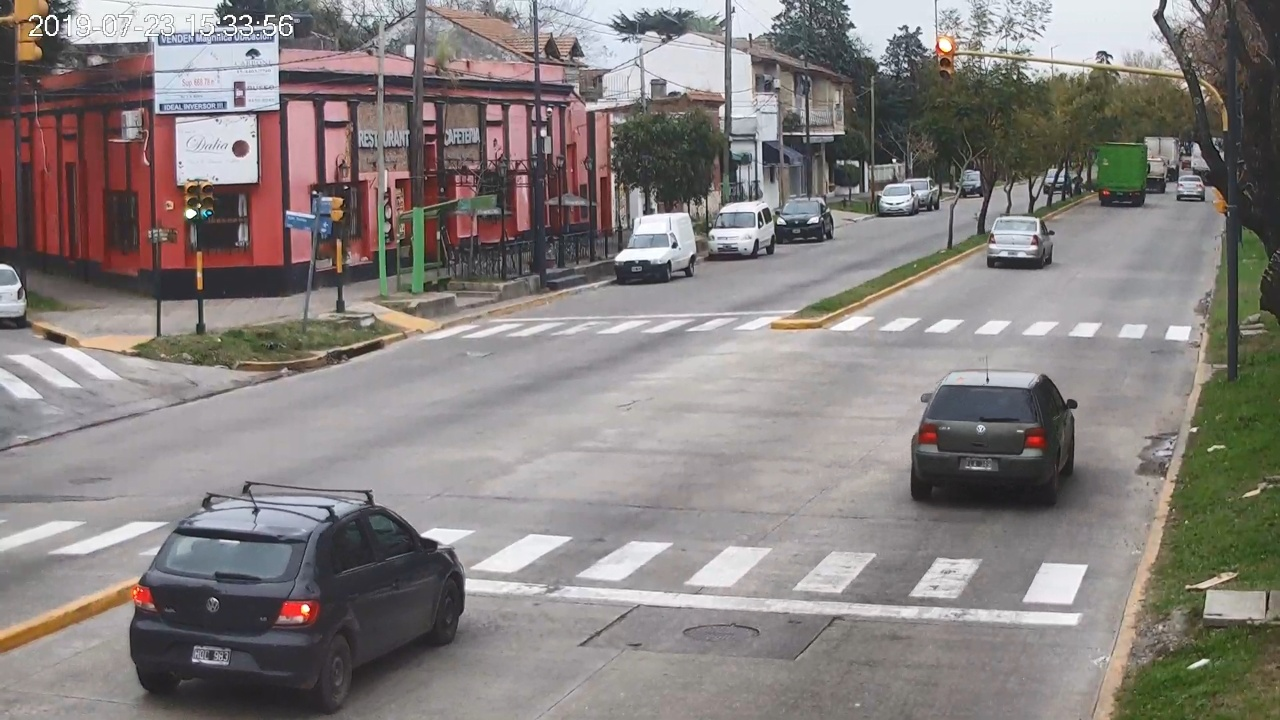car: (130, 482, 466, 711), (911, 369, 1078, 500), (987, 215, 1055, 268)
